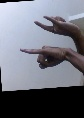hand: (18, 44, 68, 69), (33, 14, 80, 38)
